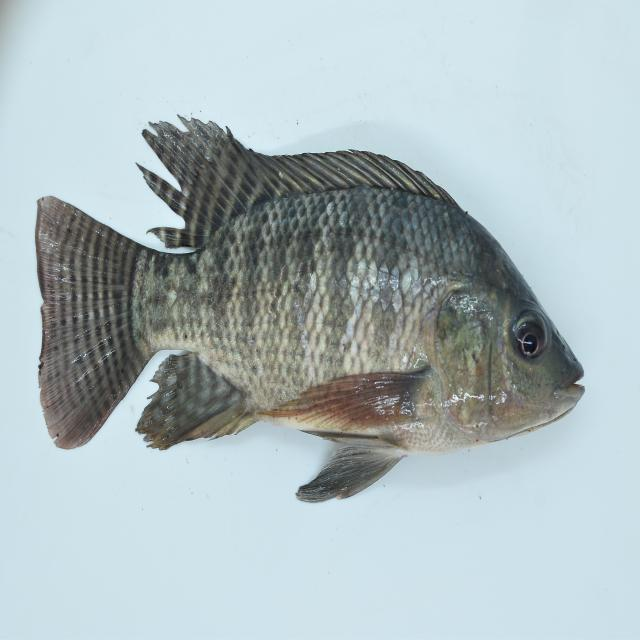Healthy Fish: (32, 113, 592, 501)
